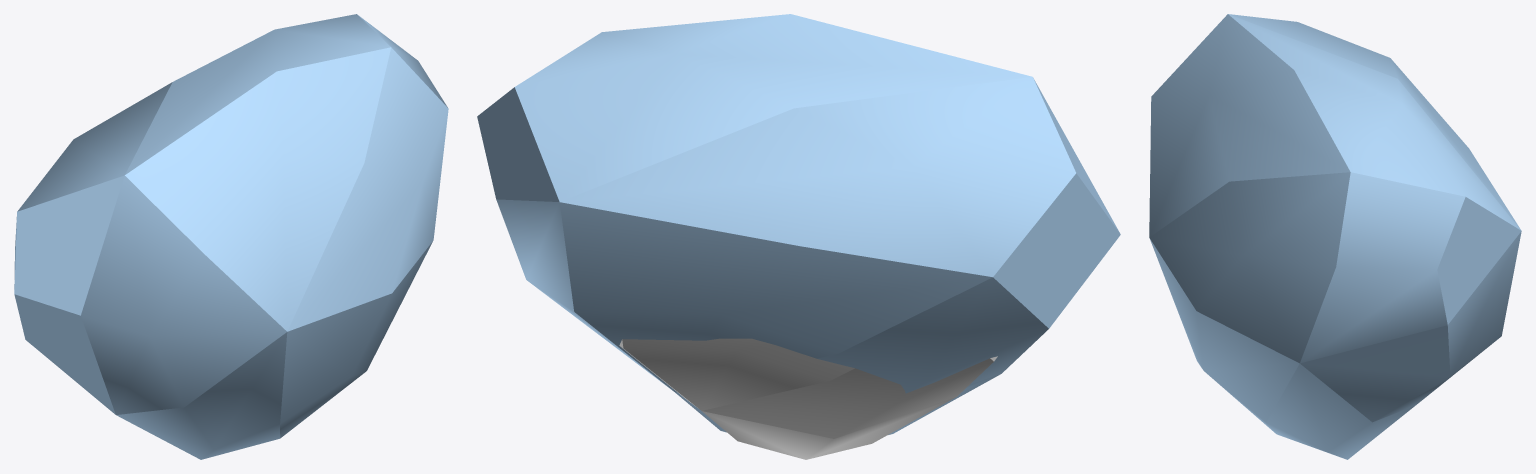
3 renders of one model, left to right at view 1: azimuth 30°, elevation 25°; view 2: azimuth 150°, elevation 25°; view 3: azimuth 270°, elevation 25°, orthographic. The views are drawn at different scales.
Visible parts, largest first — view 1: Nose; view 2: Nose; view 3: Nose.
Boxes of the visible parts, x1=… form: Nose: x1=14, y1=14, x2=448, y2=459; Nose: x1=477, y1=14, x2=1120, y2=459; Nose: x1=1149, y1=14, x2=1521, y2=459.
Size of the model in its own units: 9.92 by 6.39 by 7.24.
